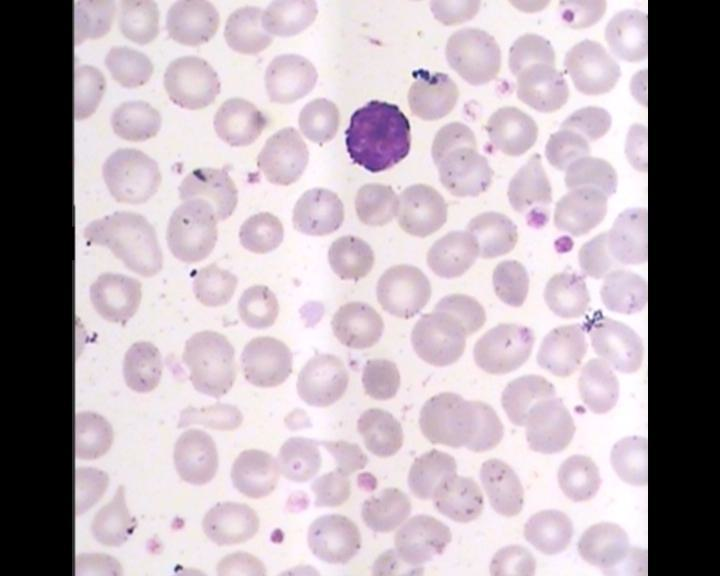baso: (339, 96, 420, 176)
